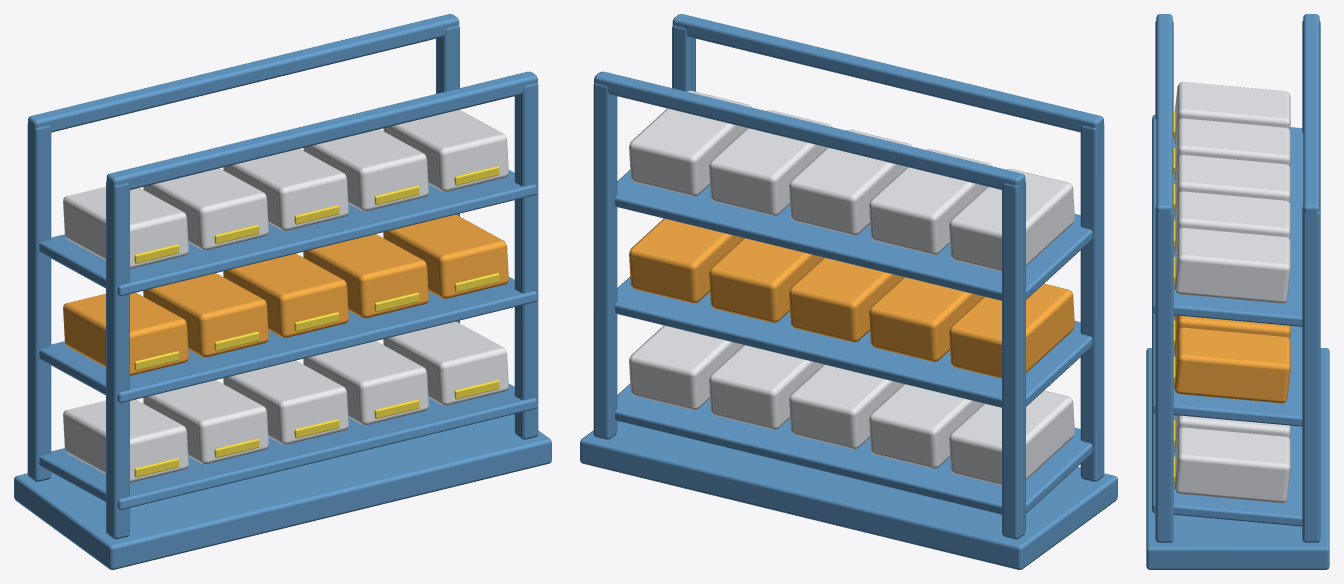
File: line-side-rack.glb
The picture shows the model from 3 angles, left to right: view 1: azimuth 30°, elevation 25°; view 2: azimuth 150°, elevation 25°; view 3: azimuth 270°, elevation 25°; orthographic projection. The views are drawn at different scales.
Visible parts, largest first — view 1: line-side-rack; view 2: line-side-rack; view 3: line-side-rack.
Part boxes in pixels (x1,y1,x2,y2): line-side-rack: (14, 14, 551, 569); line-side-rack: (580, 14, 1117, 569); line-side-rack: (1146, 14, 1329, 569).
Size of the model in its own units: 2.6 by 2.17 by 0.9999.
